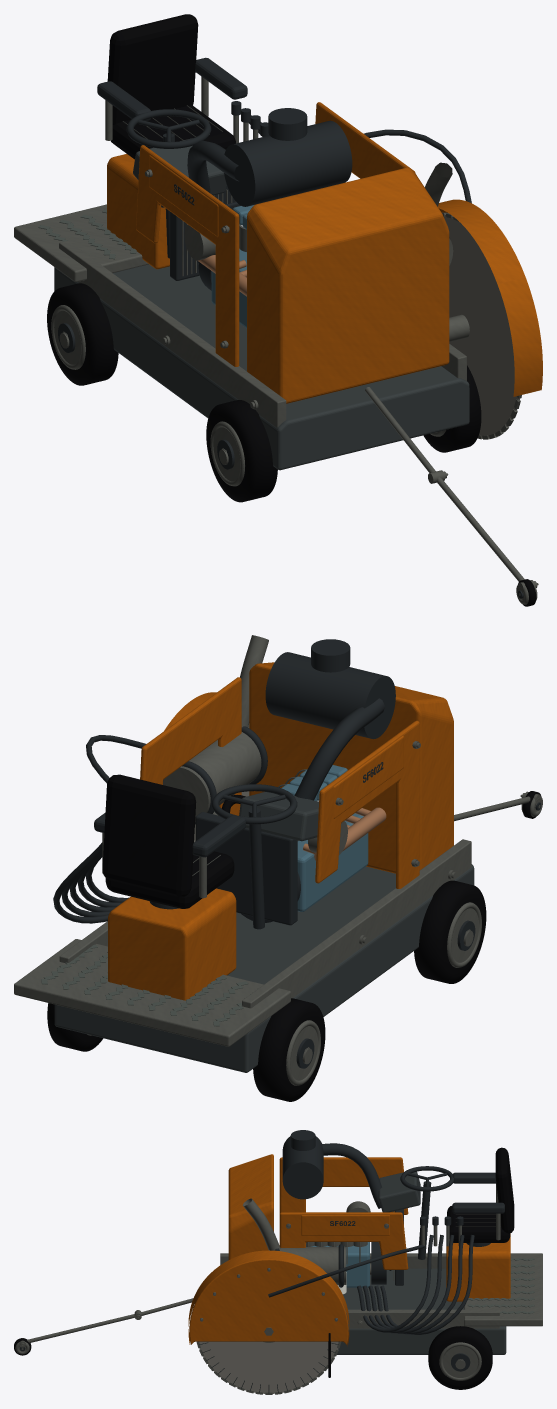
3 views of the same model, one above another, from view 1: azimuth 30°, elevation 25°; view 2: azimuth 150°, elevation 25°; view 3: azimuth 270°, elevation 25° (orthographic). The views are drawn at different scales.
Visible parts, largest first — view 1: cover, frame, controls, blade, blade_guard, engine; view 2: frame, cover, controls, engine, blade_guard; view 3: cover, controls, frame, blade_guard, blade, engine.
Part boxes in pixels (x1,y1,x2,y2): cover: [136, 102, 453, 403]; frame: [14, 204, 481, 502]; controls: [97, 14, 538, 606]; blade: [442, 212, 521, 439]; blade_guard: [364, 129, 542, 396]; engine: [170, 185, 254, 328]; frame: [14, 839, 486, 1101]; cover: [140, 635, 453, 888]; controls: [53, 774, 542, 1000]; engine: [195, 765, 386, 925]; blade_guard: [86, 692, 216, 783]; cover: [228, 1130, 408, 1287]; controls: [14, 1147, 514, 1355]; frame: [220, 1253, 542, 1389]; blade_guard: [188, 1245, 424, 1377]; blade: [196, 1327, 341, 1394]; engine: [306, 1201, 403, 1294].
Bounding box in the file's own units: 1.52 × 1.61 × 3.62.
12 materials, 3 textured.
